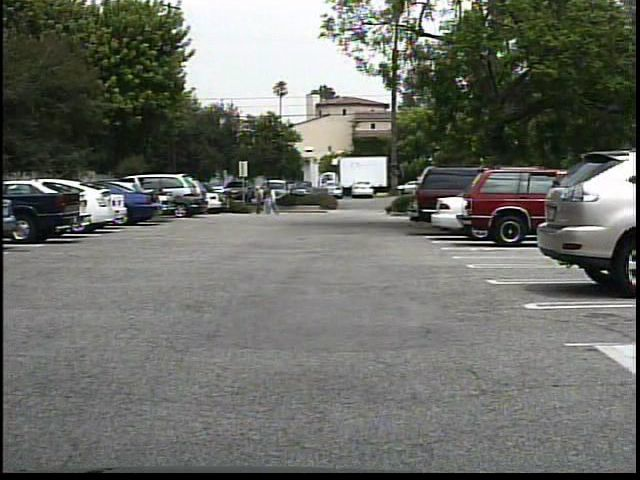person: (252, 185, 268, 216), (269, 186, 283, 219), (262, 185, 275, 216)
